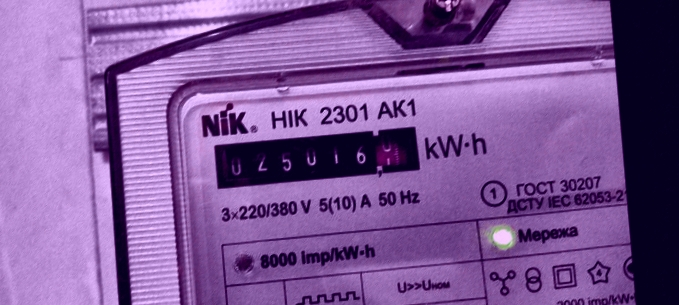0: (303, 143, 318, 167), (227, 153, 242, 176), (378, 132, 392, 152)
1: (327, 140, 340, 166), (382, 155, 391, 166)
2: (253, 148, 268, 172)
5: (278, 149, 291, 171)
6: (352, 141, 367, 167)
screen: (202, 116, 429, 195)
